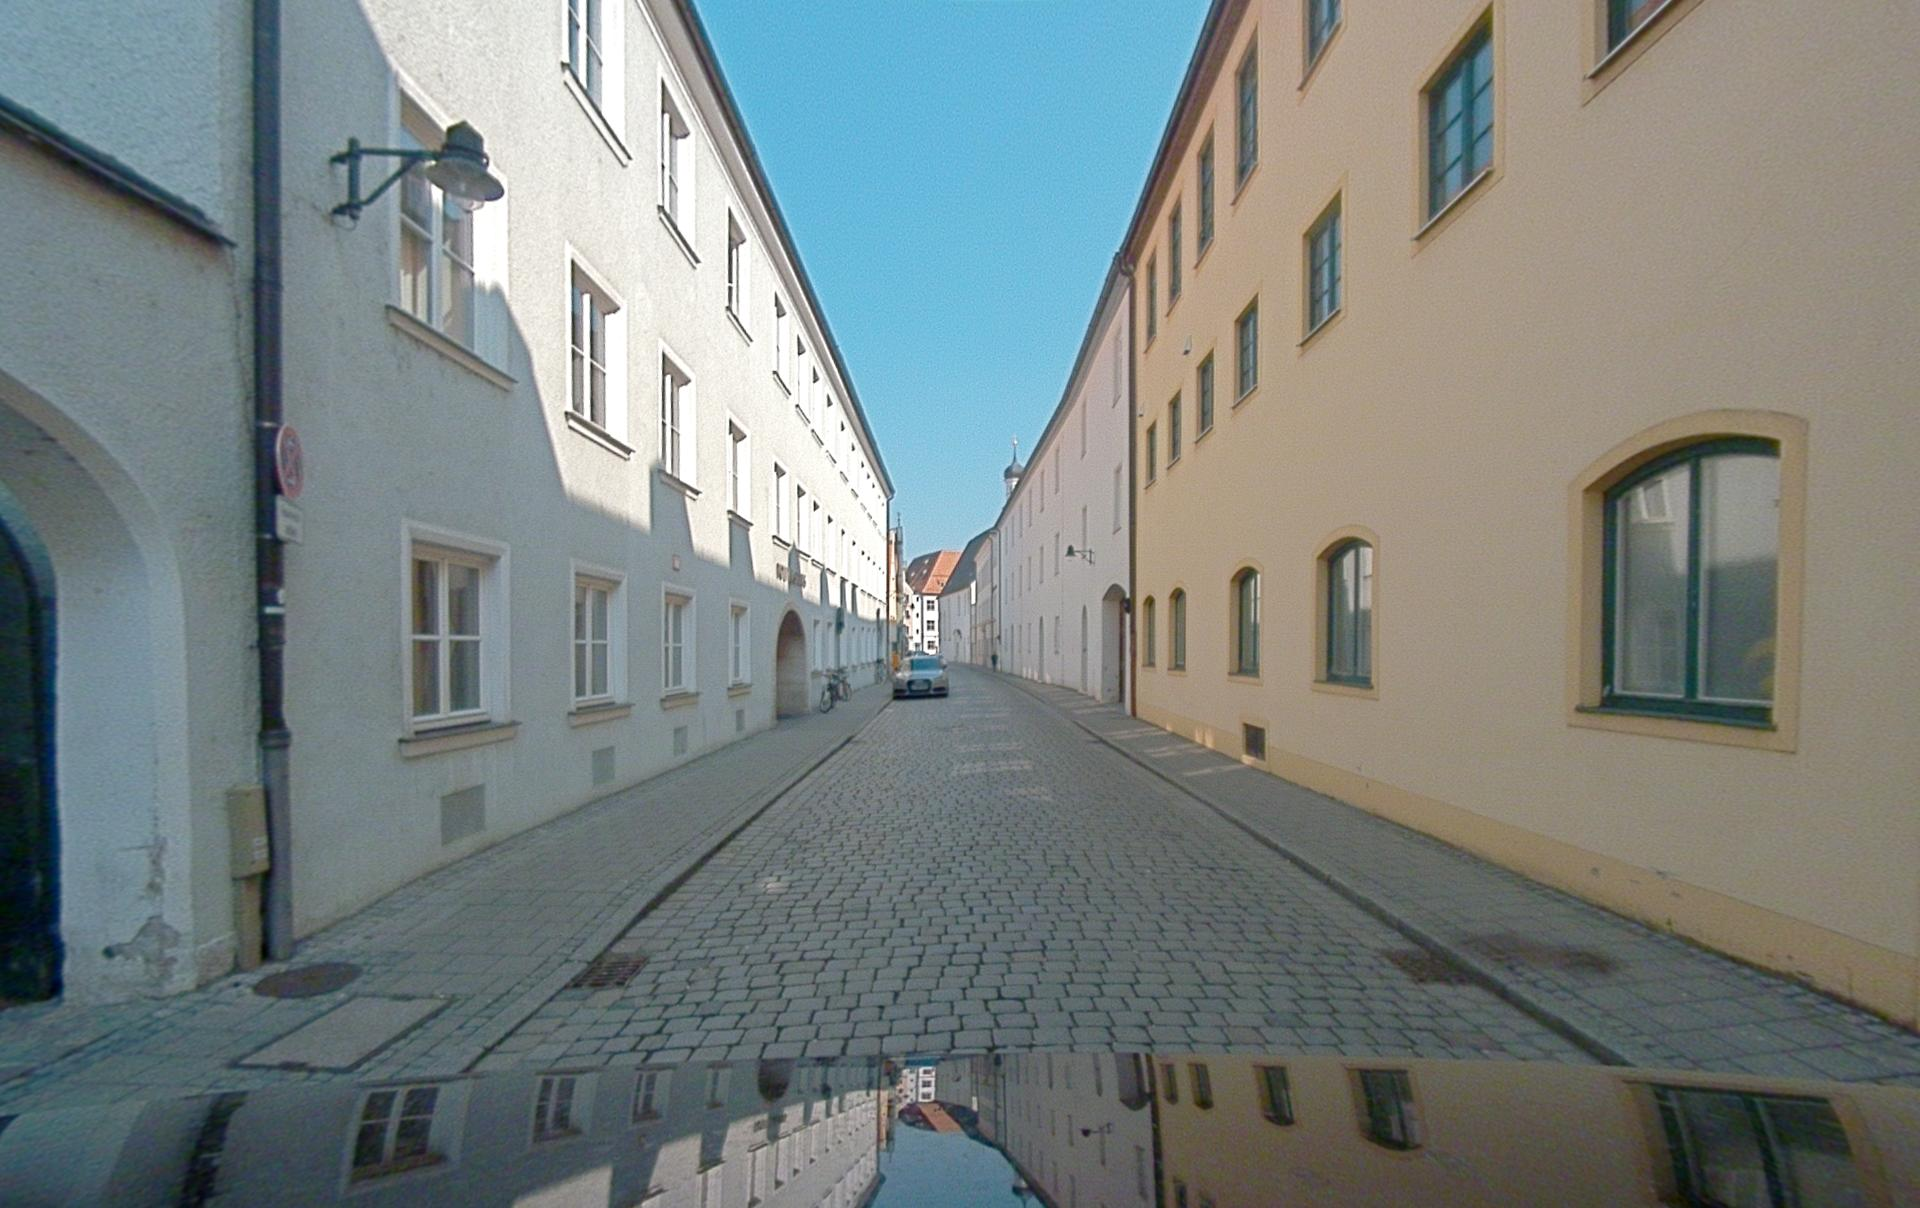car: (892, 653, 949, 699)
